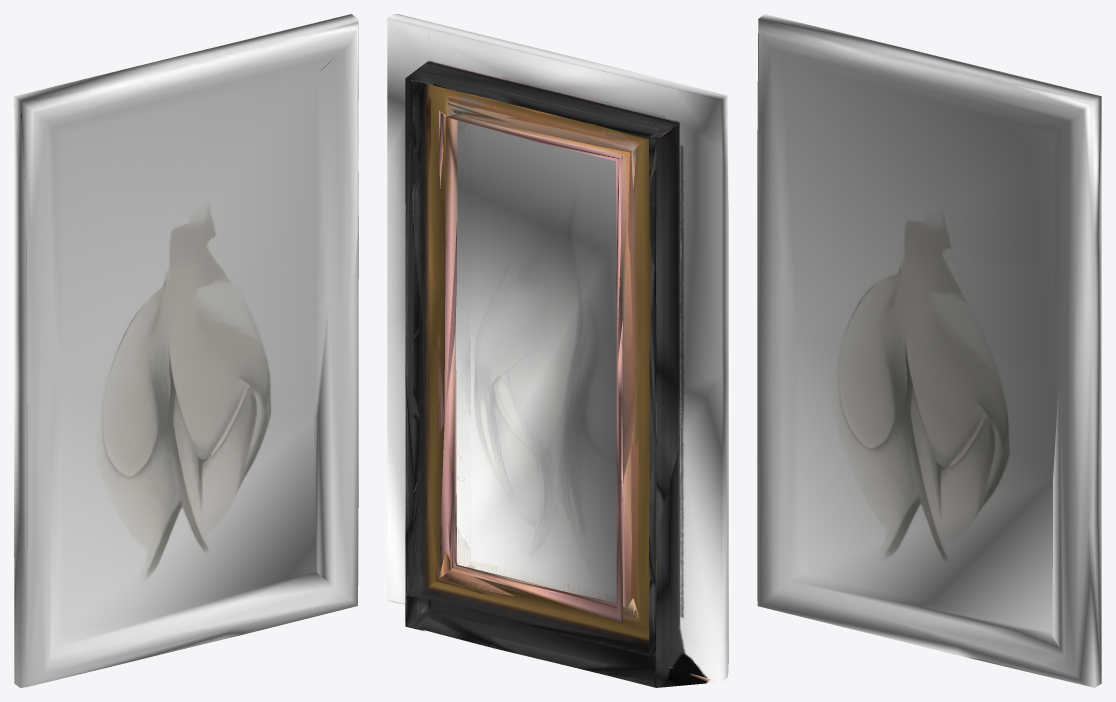
The model's file is regr_mirror_wall.fbx.
The picture shows the model from 3 angles, left to right: view 1: azimuth 30°, elevation 25°; view 2: azimuth 150°, elevation 25°; view 3: azimuth 330°, elevation 25°; orthographic projection.
Visible parts, largest first — view 1: Mesh1.0; view 2: Mesh1.0; view 3: Mesh1.0.
Boxes of the visible parts, left/top/right/bottom form: Mesh1.0: left=14, top=14, right=358, bottom=687; Mesh1.0: left=387, top=14, right=728, bottom=687; Mesh1.0: left=757, top=14, right=1101, bottom=687.
Size of the model in its own units: 114 by 190 by 21.56.
Materials: 1 (1 with a texture image).
